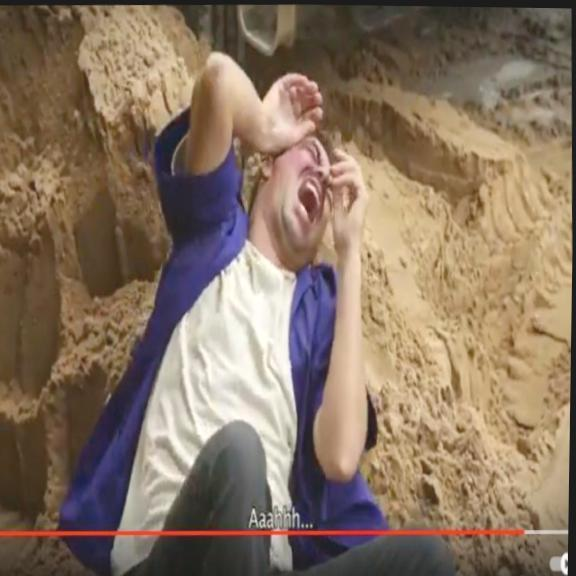no_safety_vest: (103, 224, 362, 511)
